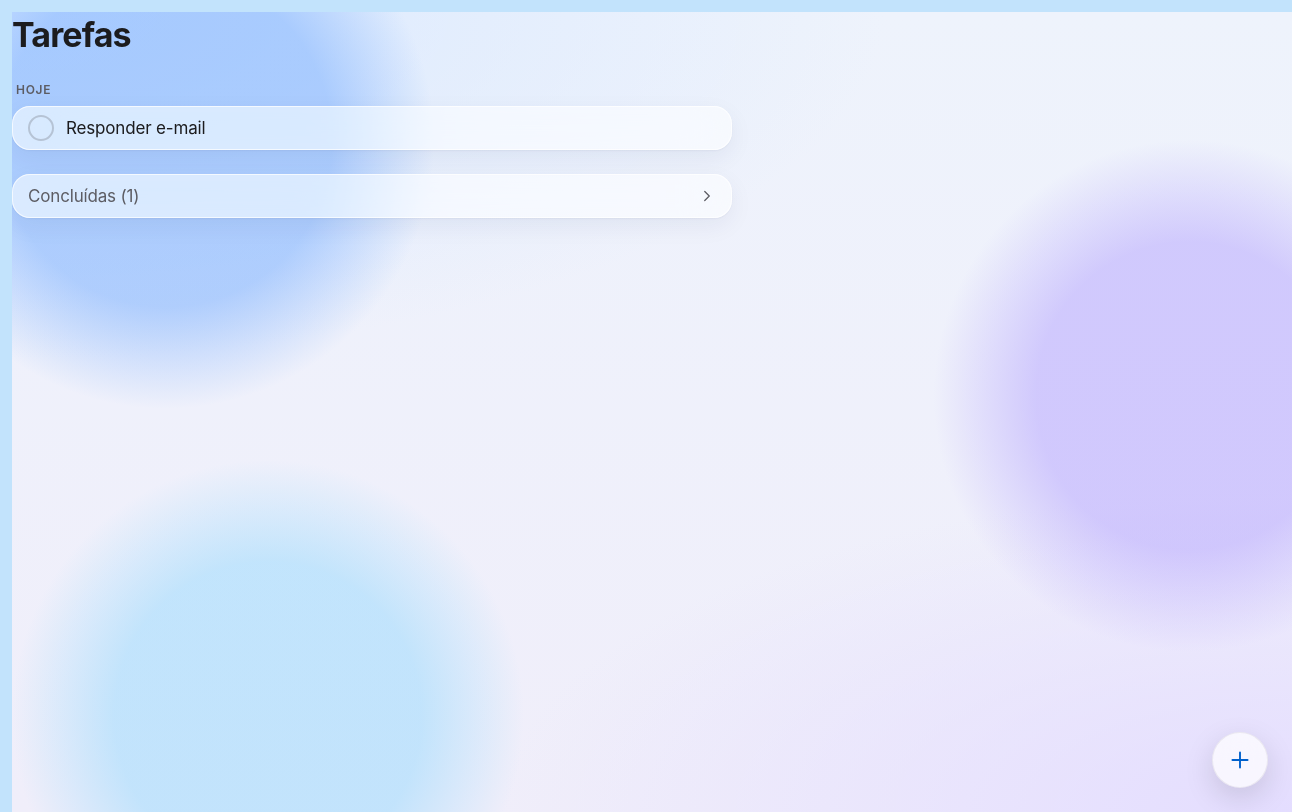
Test: Tarefas › fechar recolhe as concluidas, e o que ficou escondido nao e alcancavel
Click the button with class "concluidas__alternar". click: (84, 196)
box: top-left (12, 174), bottom-right (732, 218)
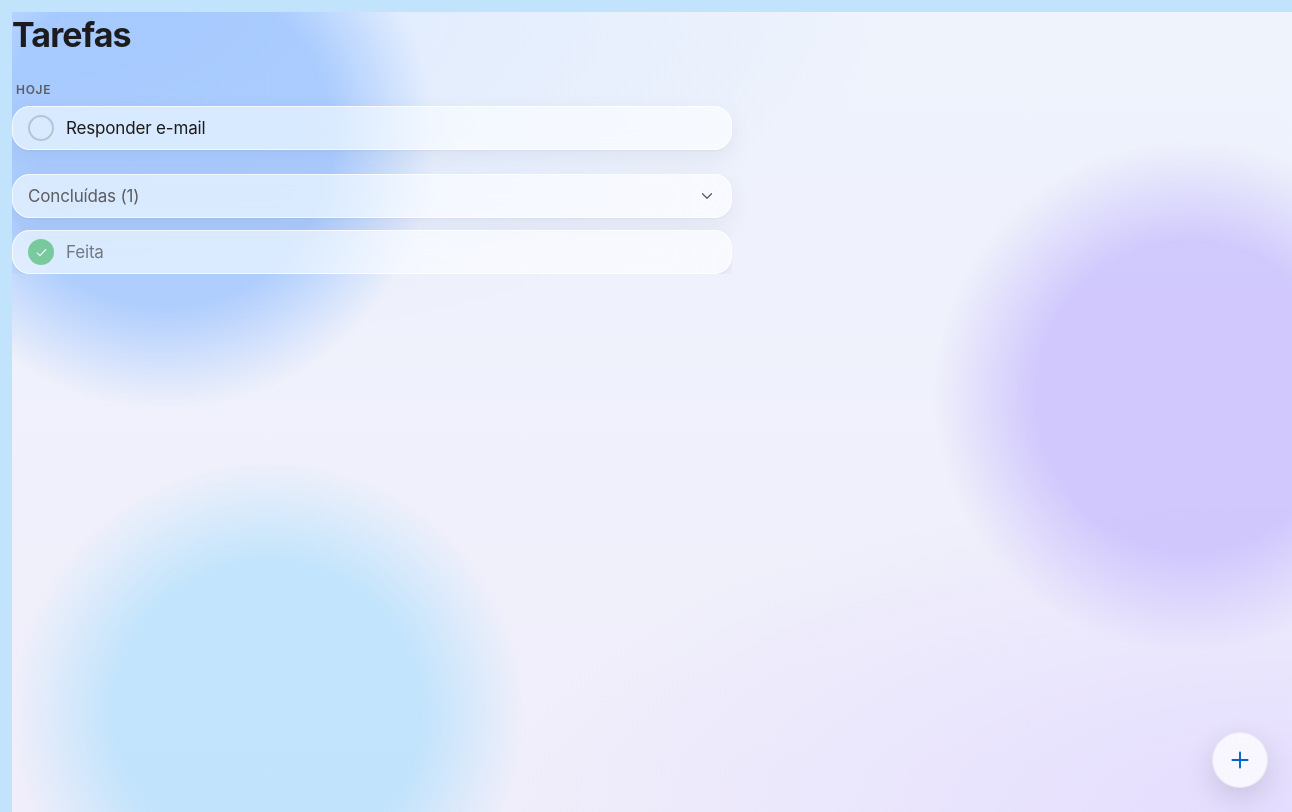
Click the button with class "concluidas__alternar". click: (84, 196)
box: top-left (12, 174), bottom-right (732, 218)
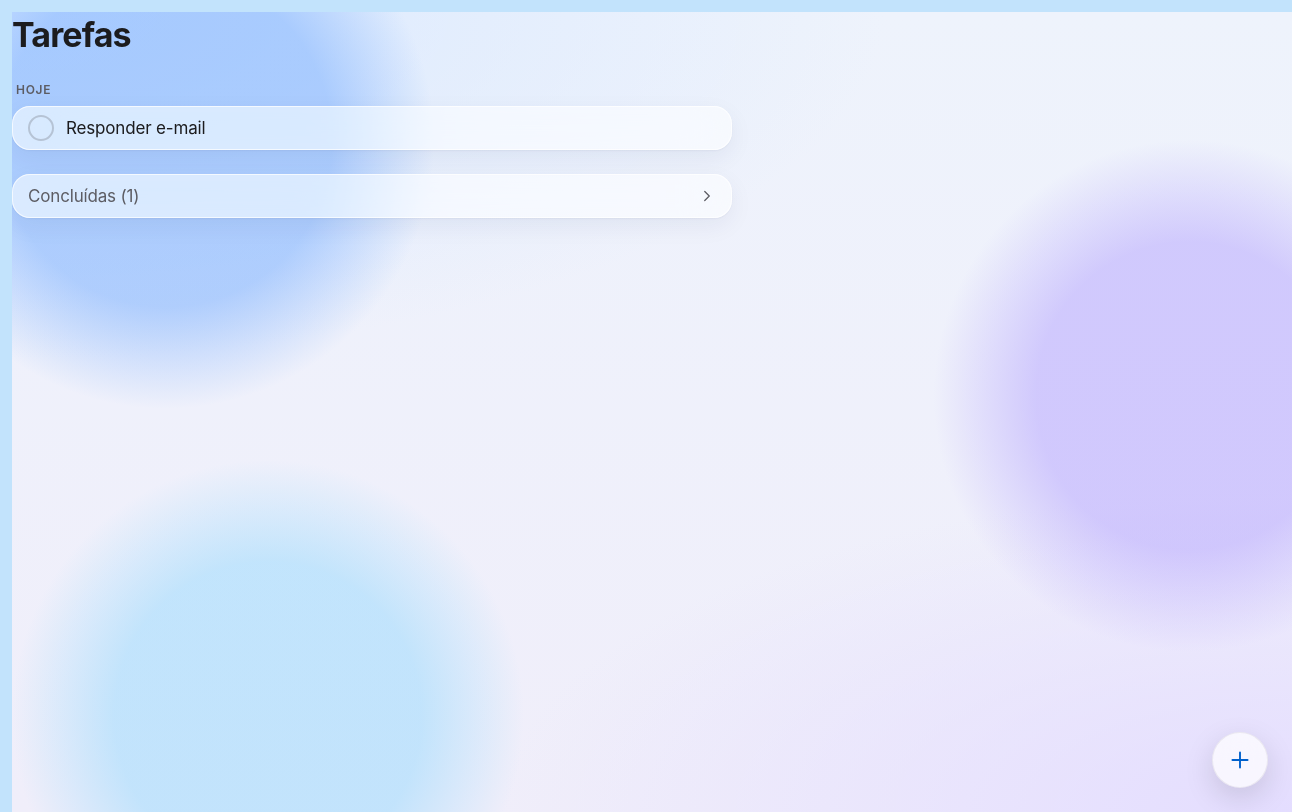
Check: the button with class "concluidas__alternar" is collapsed, box top-left (12, 174), bottom-right (732, 218)
